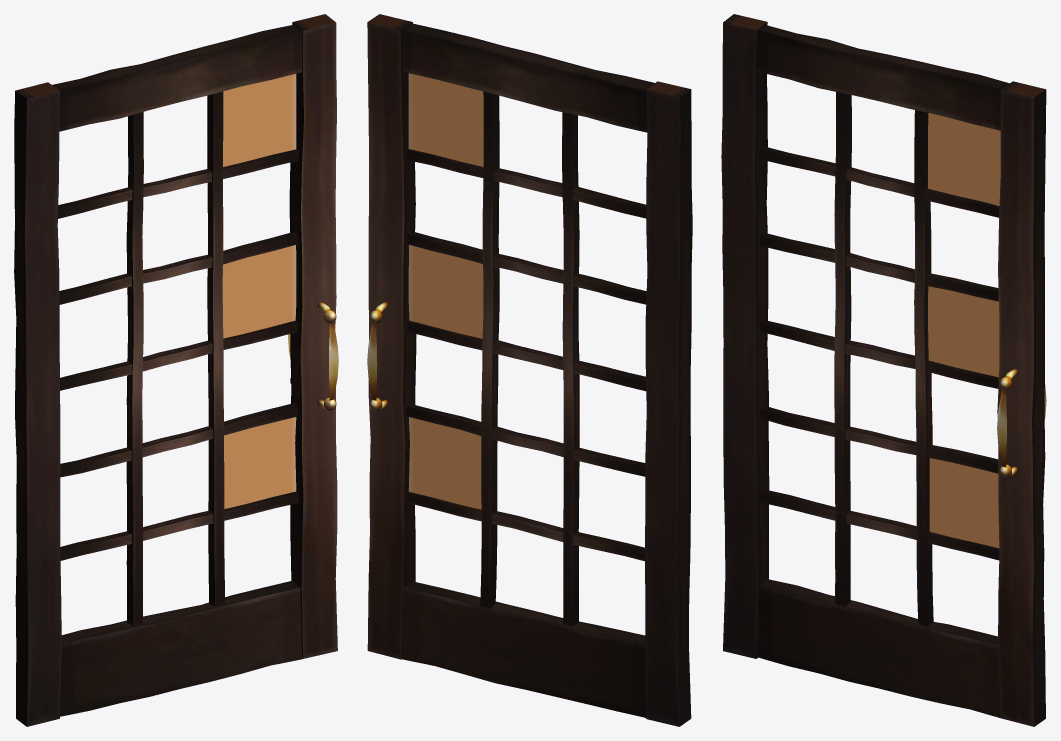
Rendered from puerta.obj.
3 views of the same model, side by side, from view 1: azimuth 30°, elevation 25°; view 2: azimuth 150°, elevation 25°; view 3: azimuth 330°, elevation 25° (orthographic).
Parts seen in each view (by area): view 1: puertaS.001; view 2: puertaS.001; view 3: puertaS.001.
Boxes of the visible parts, x1,y1,x2,y2 form: puertaS.001: (14, 14, 338, 726); puertaS.001: (367, 14, 692, 726); puertaS.001: (721, 14, 1046, 726).
Size of the model in its own units: 3.14 by 6.04 by 0.7012.
4 materials, 4 textured.
